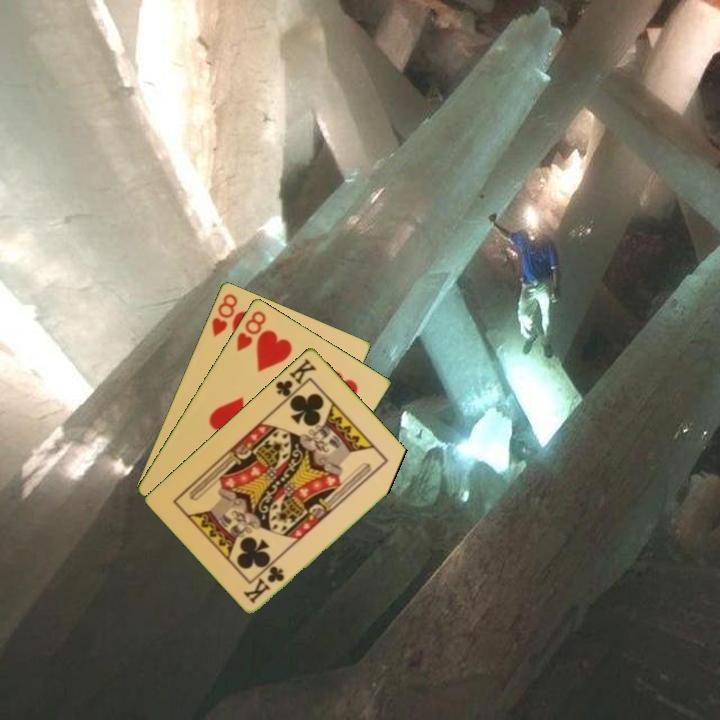8h: (233, 307, 269, 354), (208, 289, 240, 339)
Kc: (272, 354, 319, 404), (240, 562, 288, 606)
